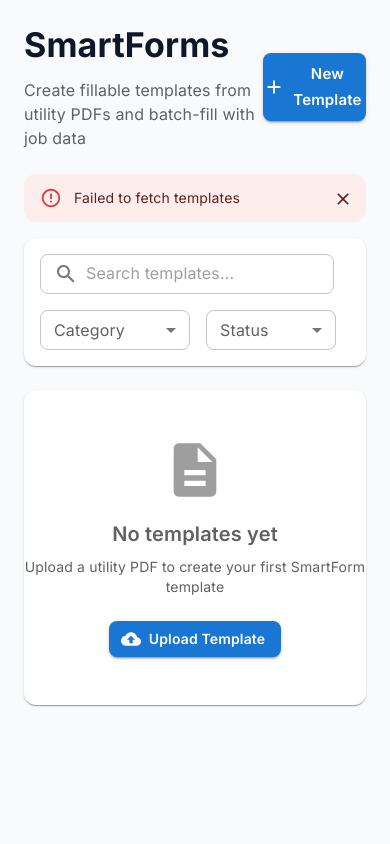
Test: SmartFormsPage Component › Error Handling › should allow dismissing error
Expected: the message "Failed to fetch templates" is shown, [24, 174, 366, 222]
Click the button named "Close" at [343, 199], box [328, 184, 358, 214]
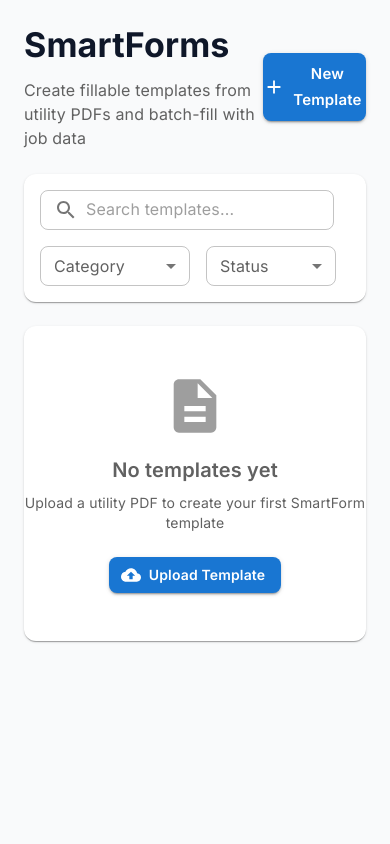
Result: the message "Failed to fetch templates" is gone
